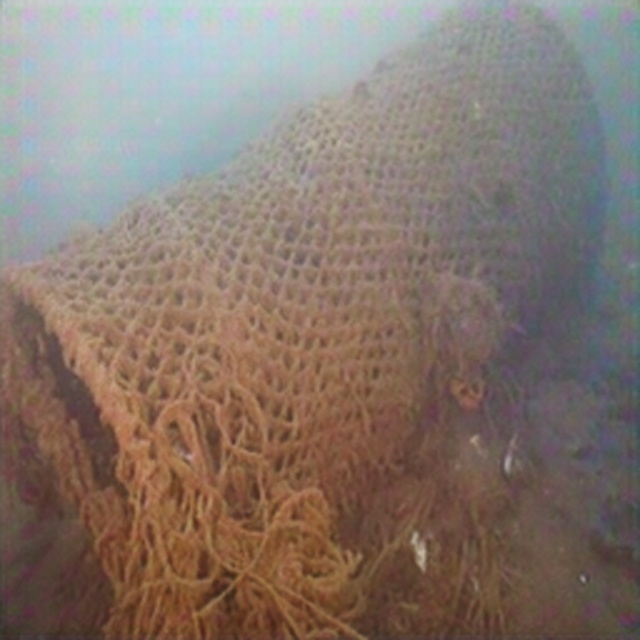mine: (0, 0, 610, 640)
